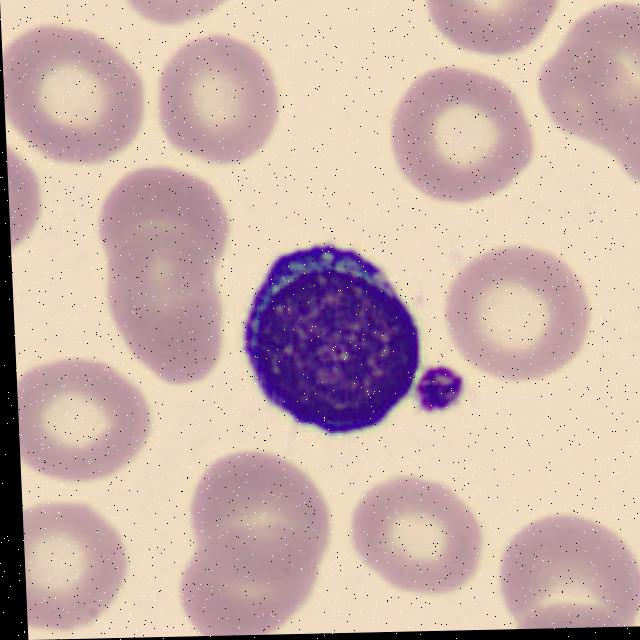lymphocyte: (239, 236, 430, 435)
platelets: (419, 355, 477, 414)
rbc: (110, 239, 239, 385), (444, 251, 588, 379), (1, 26, 135, 155), (16, 353, 149, 480), (352, 473, 481, 600), (176, 536, 336, 637), (392, 75, 523, 197), (177, 448, 320, 557), (23, 500, 129, 633), (498, 517, 635, 608), (160, 50, 275, 156), (94, 171, 223, 257), (538, 41, 625, 162), (562, 2, 640, 122), (422, 0, 572, 53), (5, 117, 51, 274), (504, 580, 640, 629), (595, 84, 640, 203), (117, 0, 237, 21), (267, 535, 269, 541)
